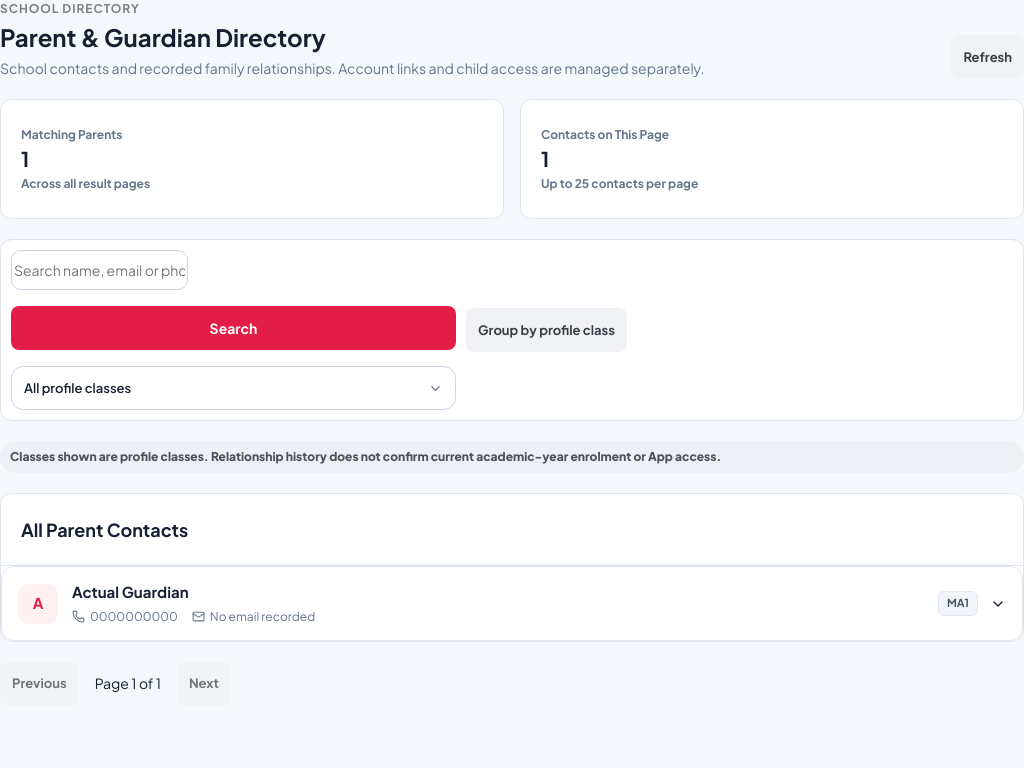
Test case: ParentsPage › shows real contacts and relationship status without assuming portal access
This screenshot has width=1024, height=768.
Click the button "A Actual Guardian 0000000000 No email recorded MA1": [38, 604] box x1=2 y1=568 x2=1022 y2=640
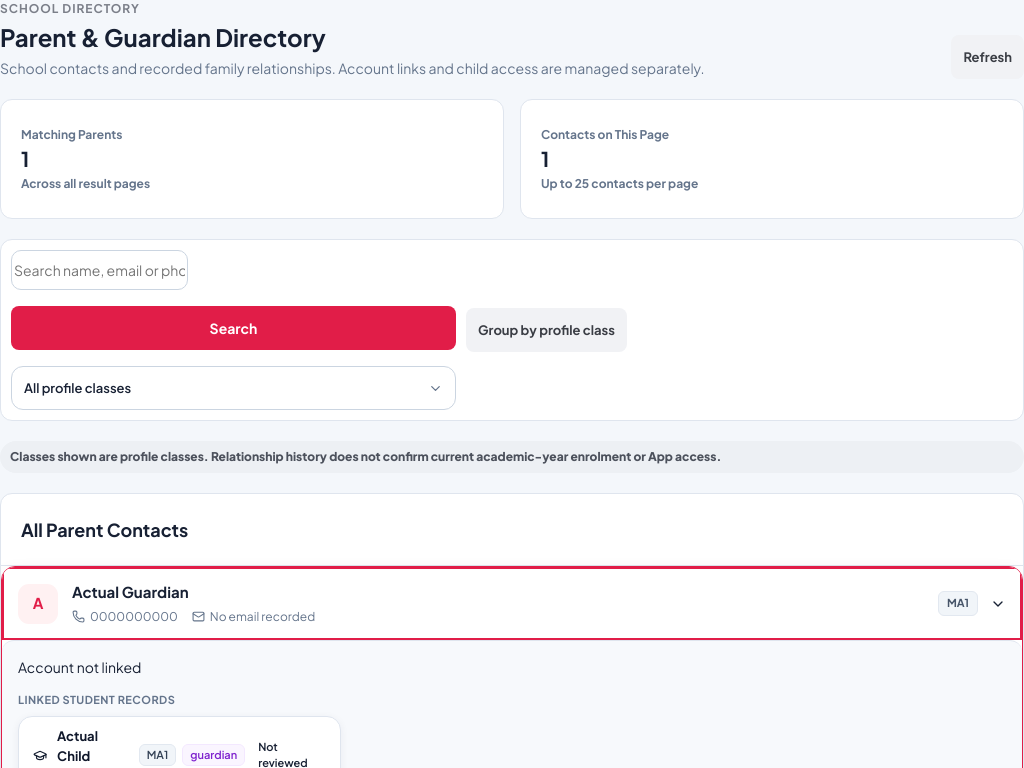
Now the text "Actual Child" is shown, box x1=57 y1=728 x2=98 y2=764
Now the text "Account not linked" is shown, box x1=18 y1=658 x2=142 y2=676
